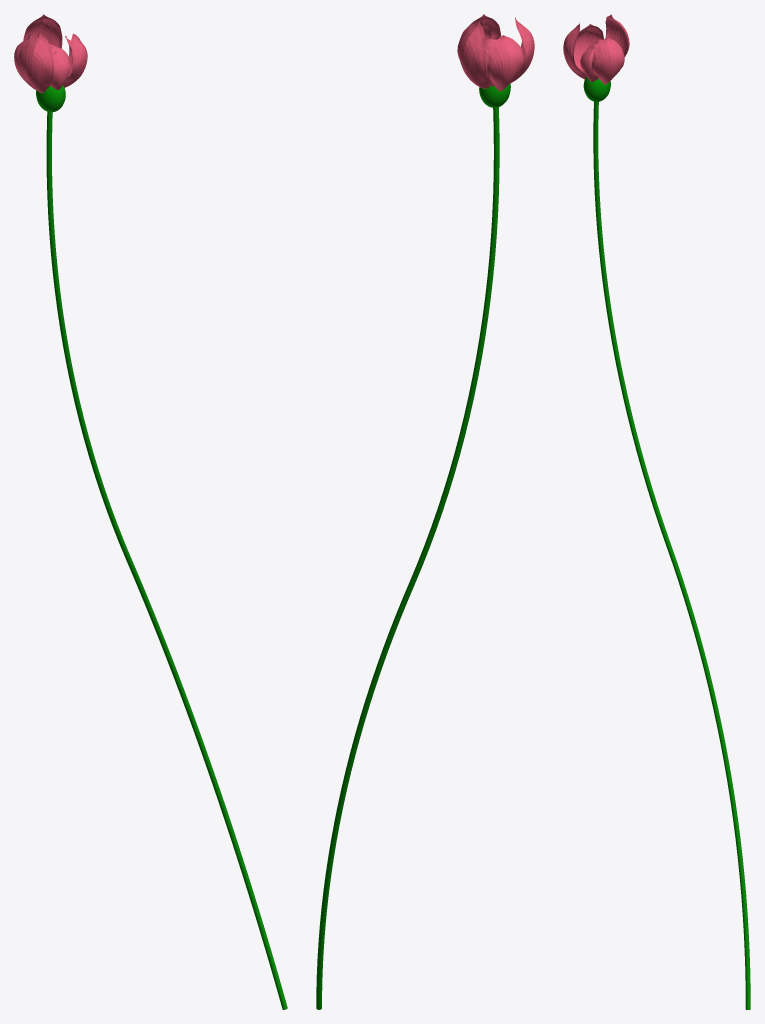
File: Lotus021.fbx
The picture shows the model from 3 angles, left to right: view 1: azimuth 30°, elevation 25°; view 2: azimuth 150°, elevation 25°; view 3: azimuth 330°, elevation 25°; orthographic projection. The views are drawn at different scales.
Visible parts, largest first — view 1: pCylinder5, nurbsToPoly11, nurbsToPoly10, nurbsToPoly24; view 2: pCylinder5, nurbsToPoly10, nurbsToPoly12, nurbsToPoly11, pSphere4; view 3: pCylinder5, nurbsToPoly24, nurbsToPoly11, nurbsToPoly12, nurbsToPoly10, pSphere4.
Boxes of the visible parts, <box> form: pCylinder5: <box>46,111,287,1009</box>; nurbsToPoly11: <box>18,33,53,93</box>; nurbsToPoly10: <box>23,14,62,48</box>; nurbsToPoly24: <box>63,33,87,87</box>; pCylinder5: <box>316,107,499,1009</box>; nurbsToPoly10: <box>457,21,490,88</box>; nurbsToPoly12: <box>487,35,523,91</box>; nurbsToPoly11: <box>509,17,534,83</box>; pSphere4: <box>479,83,510,107</box>; pCylinder5: <box>593,101,750,1009</box>; nurbsToPoly24: <box>592,37,624,84</box>; nurbsToPoly11: <box>563,23,586,79</box>; nurbsToPoly12: <box>574,24,603,59</box>; nurbsToPoly10: <box>605,14,629,56</box>; pSphere4: <box>583,77,610,101</box>.
Bounding box in the file's own units: 49.76 × 205 × 20.72.
